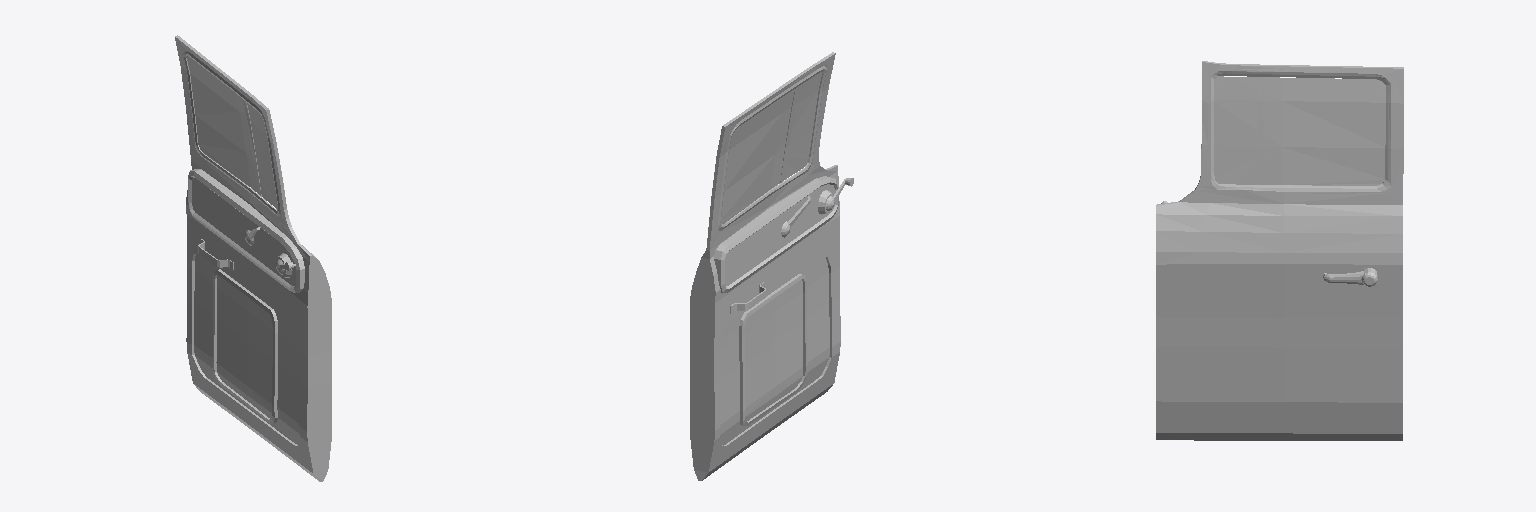
The model's file is leftsidecabindoor.obj.
The picture shows the model from 3 angles: view 1: azimuth 30°, elevation 25°; view 2: azimuth 150°, elevation 25°; view 3: azimuth 270°, elevation 25°; orthographic projection.
Parts seen in each view (by area): view 1: door_cabin_left_door_lf_ok.001, door_window_left_Object25.001; view 2: door_cabin_left_door_lf_ok.001, door_window_left_Object25.001; view 3: door_cabin_left_door_lf_ok.001, door_window_left_Object25.001, door_handle_cabin_exterior_left_Object26.001.
Part boxes in pixels (x1,y1,x2,y2): door_cabin_left_door_lf_ok.001: (175,35,331,481); door_window_left_Object25.001: (187,57,277,209); door_cabin_left_door_lf_ok.001: (690,52,840,480); door_window_left_Object25.001: (721,72,821,223); door_cabin_left_door_lf_ok.001: (1156,61,1403,440); door_window_left_Object25.001: (1214,76,1385,185); door_handle_cabin_exterior_left_Object26.001: (1323,268,1377,286).
Size of the model in its own units: 0.2206 by 1.33 by 0.821.